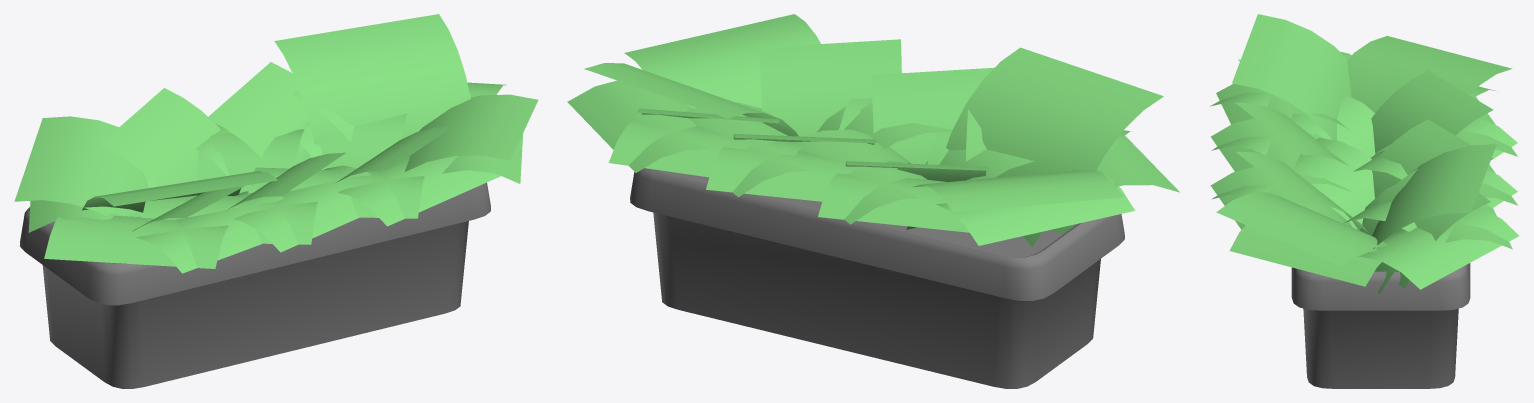
Rendered from SM_flowerpot_01.fbx.
3 renders of one model, left to right at view 1: azimuth 30°, elevation 25°; view 2: azimuth 150°, elevation 25°; view 3: azimuth 270°, elevation 25°, orthographic. The views are drawn at different scales.
Visible parts, largest first — view 1: Box54932395; view 2: Box54932395; view 3: Box54932395.
Boxes of the visible parts, box(x1,y1,x2,y2) form: Box54932395: box(14, 14, 538, 388); Box54932395: box(567, 14, 1179, 388); Box54932395: box(1210, 14, 1518, 388).
Bounding box in the file's own units: 50.08 × 19.69 × 27.39.
